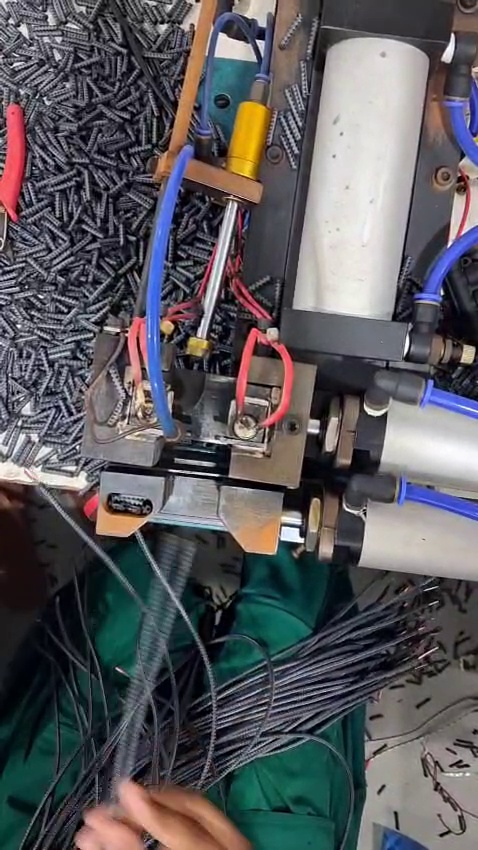intact_wire: (152, 509, 213, 663)
machine: (66, 303, 333, 513)
